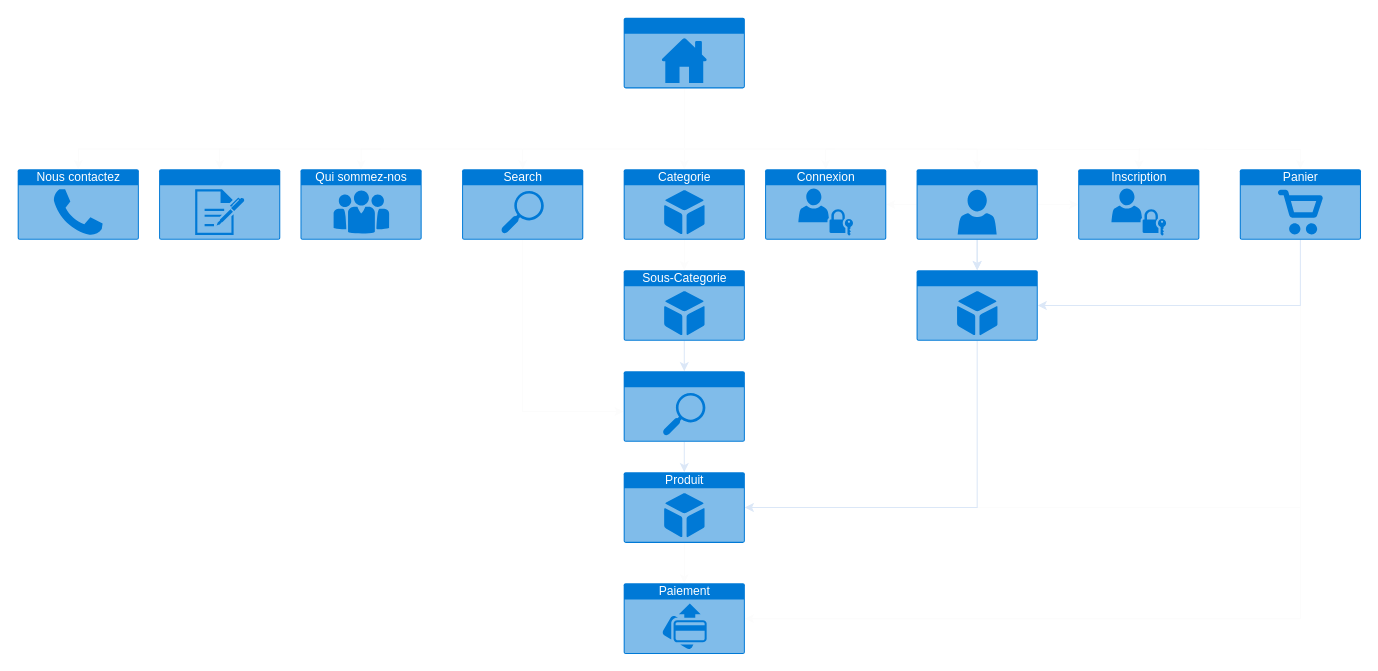
The diagram is 1378 pixels wide and 671 high, and some of its shapes have lost their labels. Here are the shapes that lost their labels. From the top down, the centre of each, then its label:
At [683,52]: "Accueil".
At [219,204]: "Mentions légales".
At [976,204]: "Profil".
At [976,305]: "Commande".
At [683,406]: "Liste des produits".
